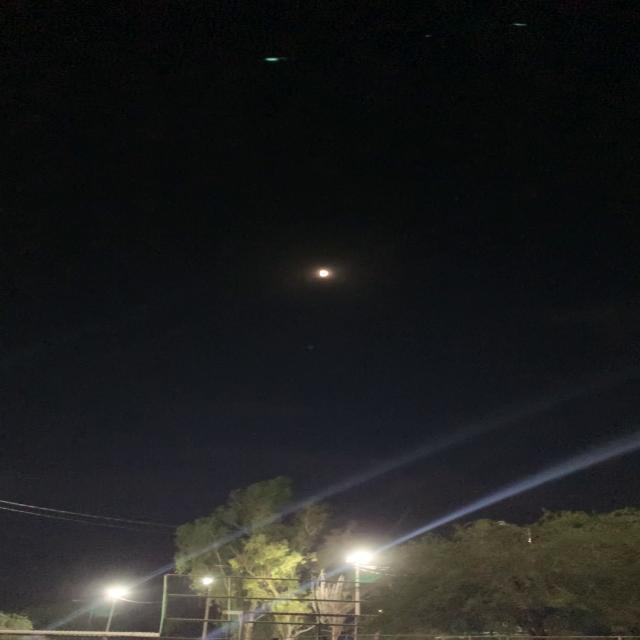moon: (306, 266, 342, 289)
